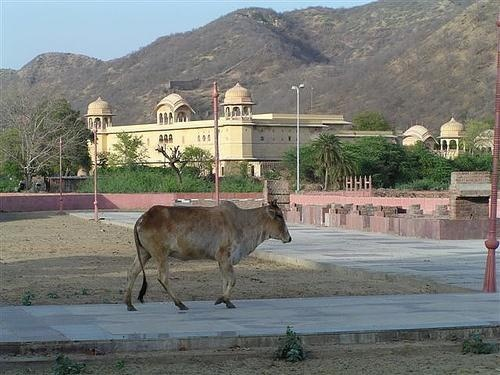cow: (124, 199, 294, 312)
